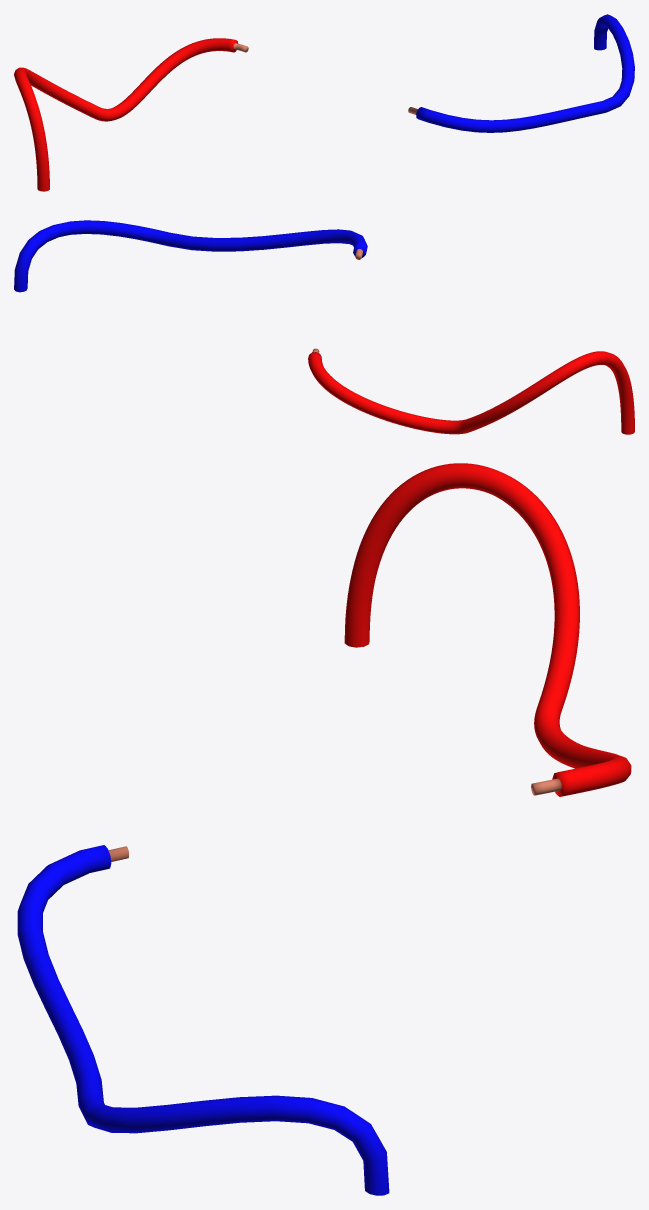
The model's file is cables.fbx.
The picture shows the model from 3 angles, top to bottom: view 1: azimuth 30°, elevation 25°; view 2: azimuth 150°, elevation 25°; view 3: azimuth 270°, elevation 25°; orthographic projection. The views are drawn at different scales.
Visible parts, largest first — view 1: CombinedCables; view 2: CombinedCables; view 3: CombinedCables.
Boxes of the visible parts, x1=… form: CombinedCables: x1=14, y1=14, x2=634, y2=191; CombinedCables: x1=14, y1=220, x2=634, y2=434; CombinedCables: x1=17, y1=463, x2=631, y2=1195.
Bounding box in the file's own units: 309 × 47.76 × 144.
